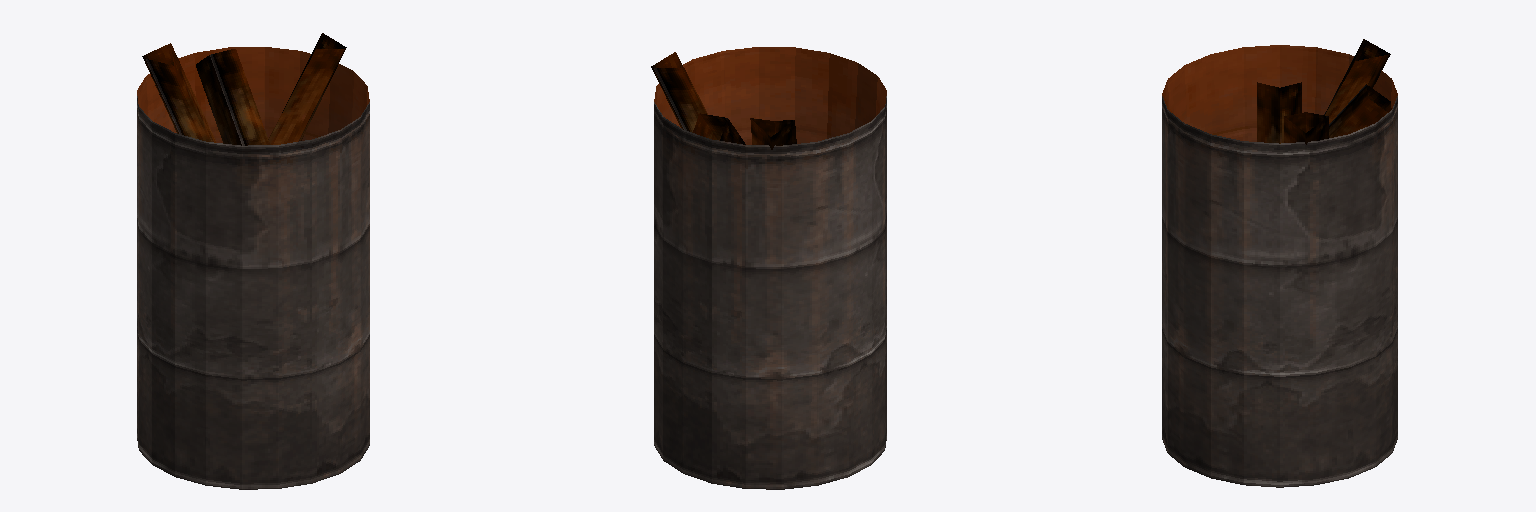
3 renders of one model, left to right at view 1: azimuth 30°, elevation 25°; view 2: azimuth 150°, elevation 25°; view 3: azimuth 270°, elevation 25°, orthographic.
Visible parts, largest first — view 1: trash; view 2: trash; view 3: trash.
Part boxes in pixels (bbox=[...]): trash: bbox=[137, 33, 369, 489]; trash: bbox=[651, 47, 886, 489]; trash: bbox=[1162, 39, 1397, 487].
Size of the model in its own units: 0.632 by 1.07 by 0.6225.
Materials: 1 (1 with a texture image).